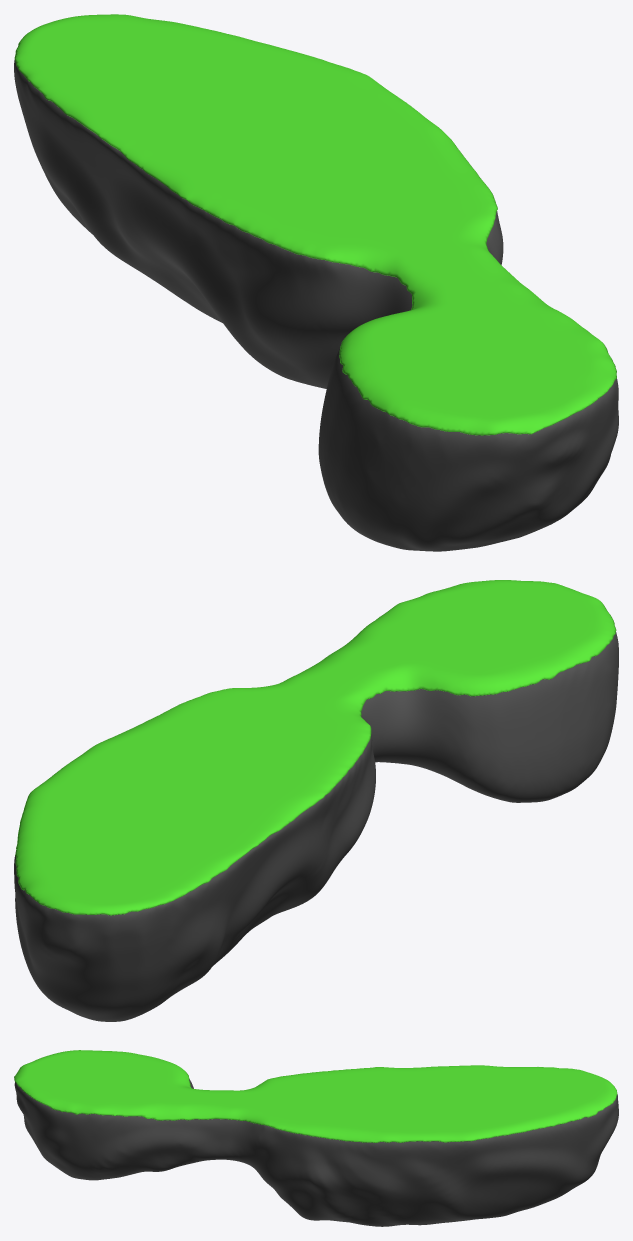
The model's file is NewTownLong1.fbx.
3 views of the same model, one above another, from view 1: azimuth 30°, elevation 25°; view 2: azimuth 150°, elevation 25°; view 3: azimuth 270°, elevation 25° (orthographic). The views are drawn at different scales.
Parts seen in each view (by area): view 1: Cube.185, Cube.180; view 2: Cube.185, Cube.180; view 3: Cube.180, Cube.185.
Part boxes in pixels (x1,y1,x2,y2): Cube.185: [14, 14, 616, 435]; Cube.180: [14, 60, 618, 551]; Cube.185: [15, 580, 616, 915]; Cube.180: [14, 632, 618, 1021]; Cube.180: [14, 1079, 618, 1226]; Cube.185: [14, 1050, 617, 1142].
Bounding box in the file's own units: 8063 × 4422 × 21824.
